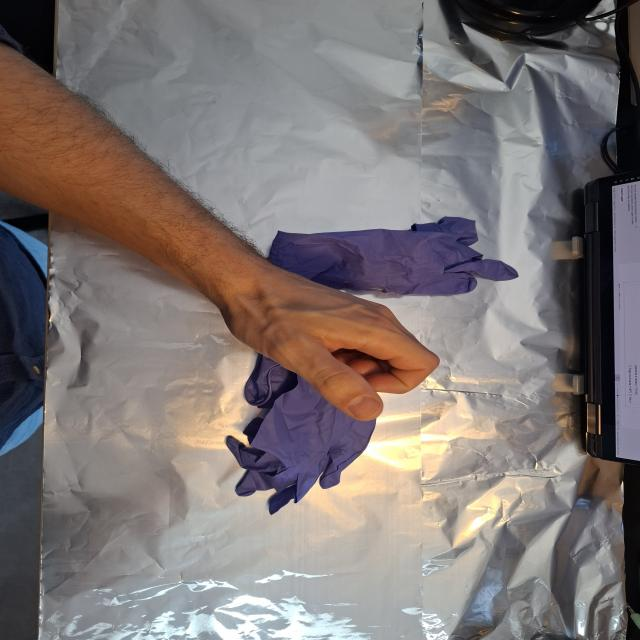glove_off: (211, 259, 442, 422)
